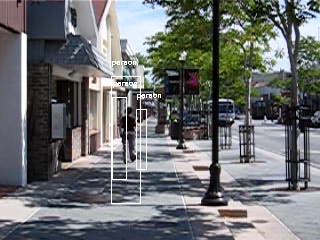person: (119, 108, 138, 165), (118, 108, 137, 165), (120, 108, 139, 165), (119, 107, 138, 164), (119, 109, 138, 166)
target_negative: (8, 51, 123, 225), (157, 64, 205, 190), (33, 184, 141, 229), (33, 159, 81, 239), (289, 97, 320, 161)
